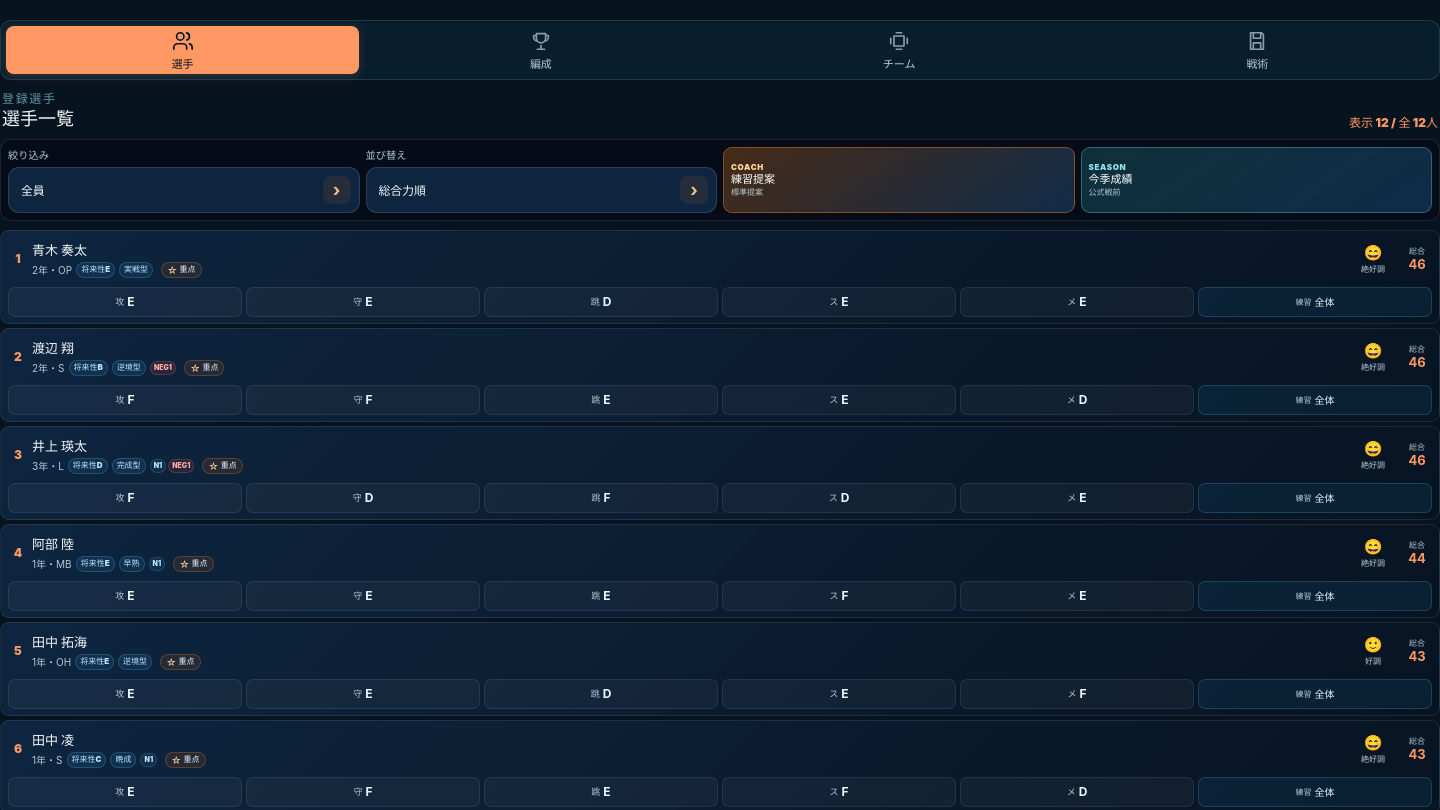
Scenario: PlayerHubScreen › shows the empty filtered state without changing the full roster count
Click the button with aria-label "選手絞り込み": (33, 191) left=8, top=167, right=360, bottom=213
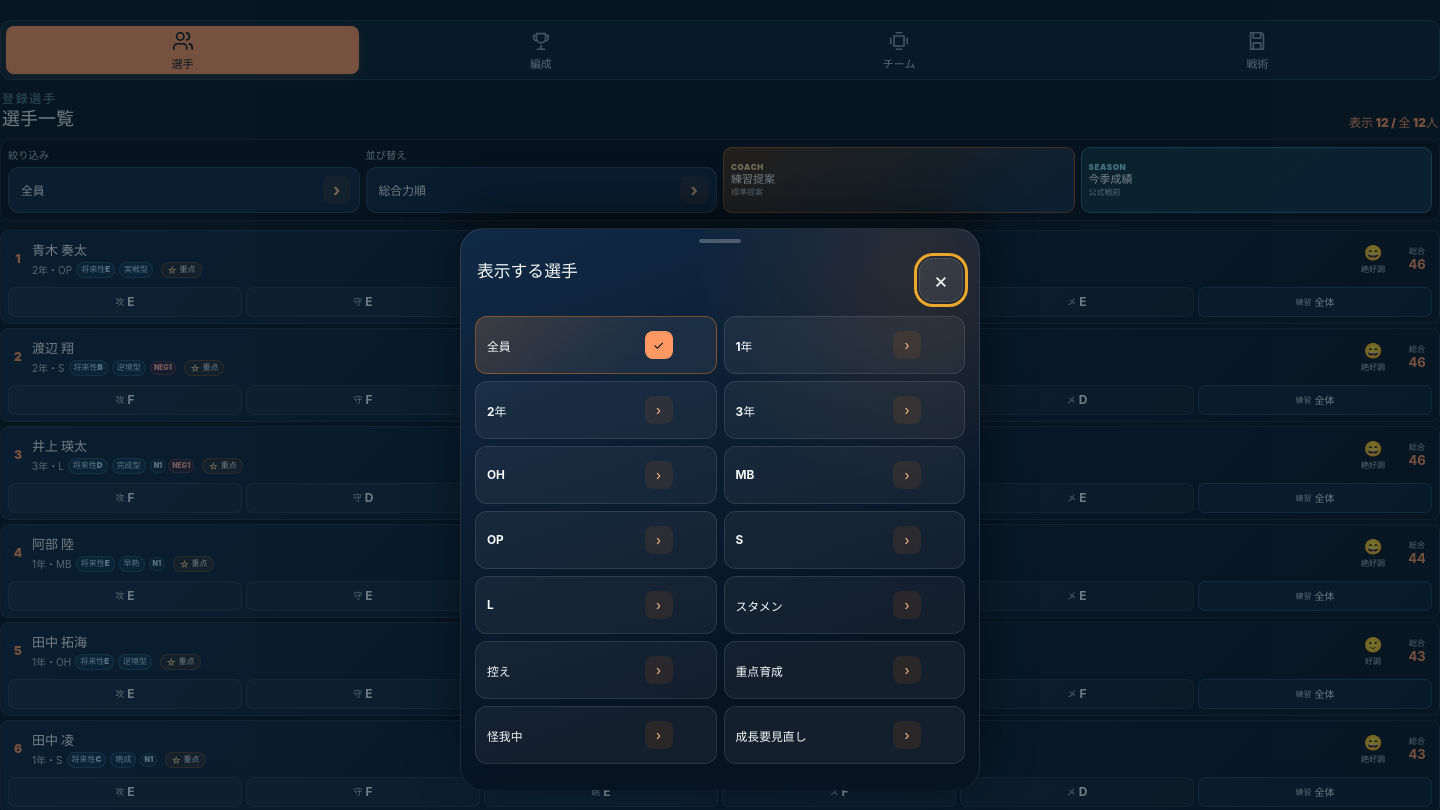
Click the button "怪我中 ›": (596, 735) left=475, top=706, right=716, bottom=764
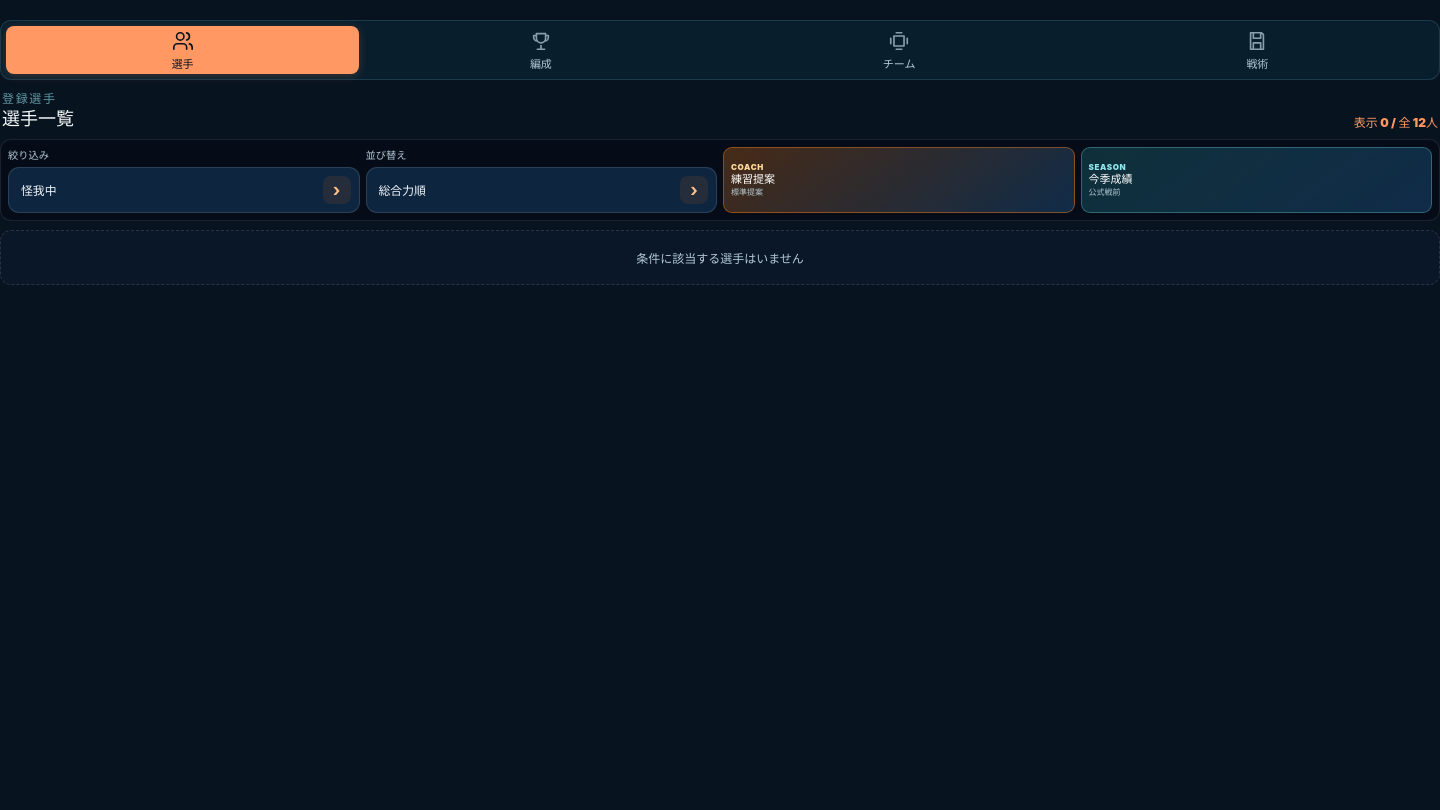
Expected: no elements with test id "roster-player-row" are shown
Expected: the text "条件に該当する選手はいません" is shown, left=0, top=230, right=1439, bottom=285
